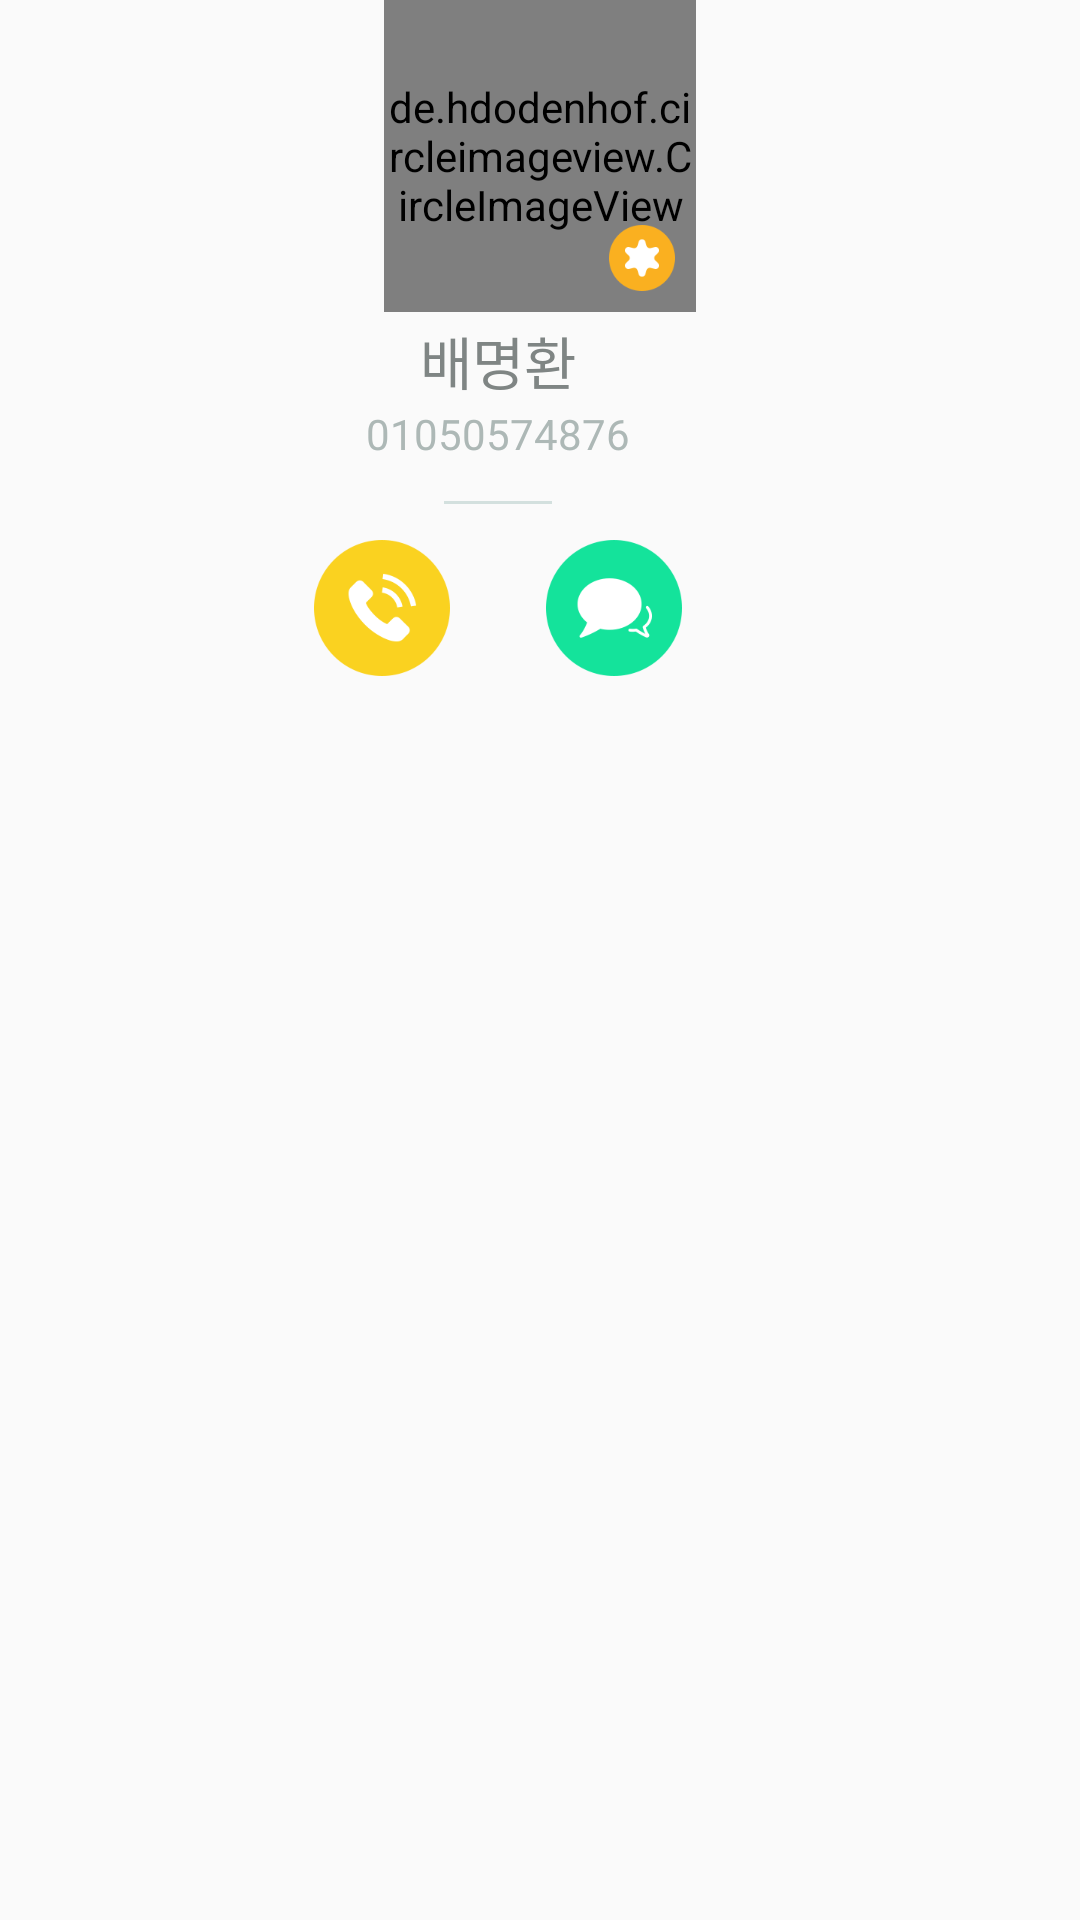

Point at icon controls on the screen. Image size 1080x1920, points as point (x, y).
call: point (382, 608)
message: point (614, 608)
